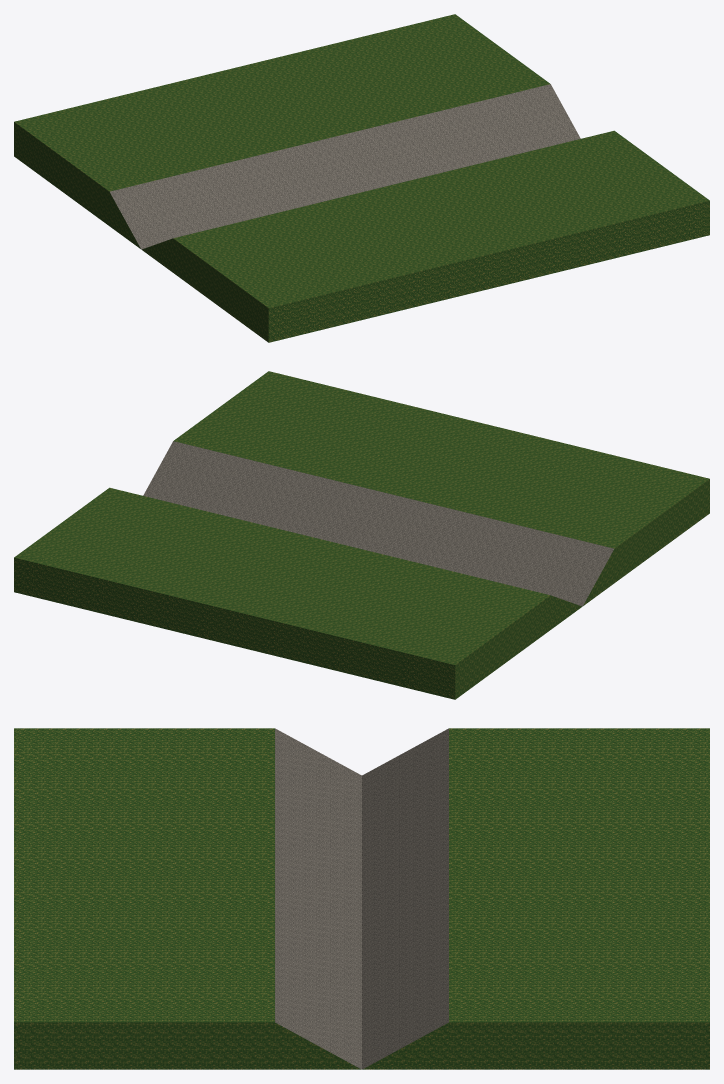
Rendered from terrain_valley.glb.
3 views of the same model, one above another, from view 1: azimuth 30°, elevation 25°; view 2: azimuth 150°, elevation 25°; view 3: azimuth 270°, elevation 25° (orthographic). The views are drawn at different scales.
Parts seen in each view (by area): view 1: TerrainValley; view 2: TerrainValley; view 3: TerrainValley.
Boxes of the visible parts, x1,y1,x2,y2 form: TerrainValley: [14, 14, 709, 342]; TerrainValley: [14, 371, 709, 699]; TerrainValley: [14, 728, 709, 1069].
Bounding box in the file's own units: 200 × 15 × 200.
Materials: 2 (2 with a texture image).
